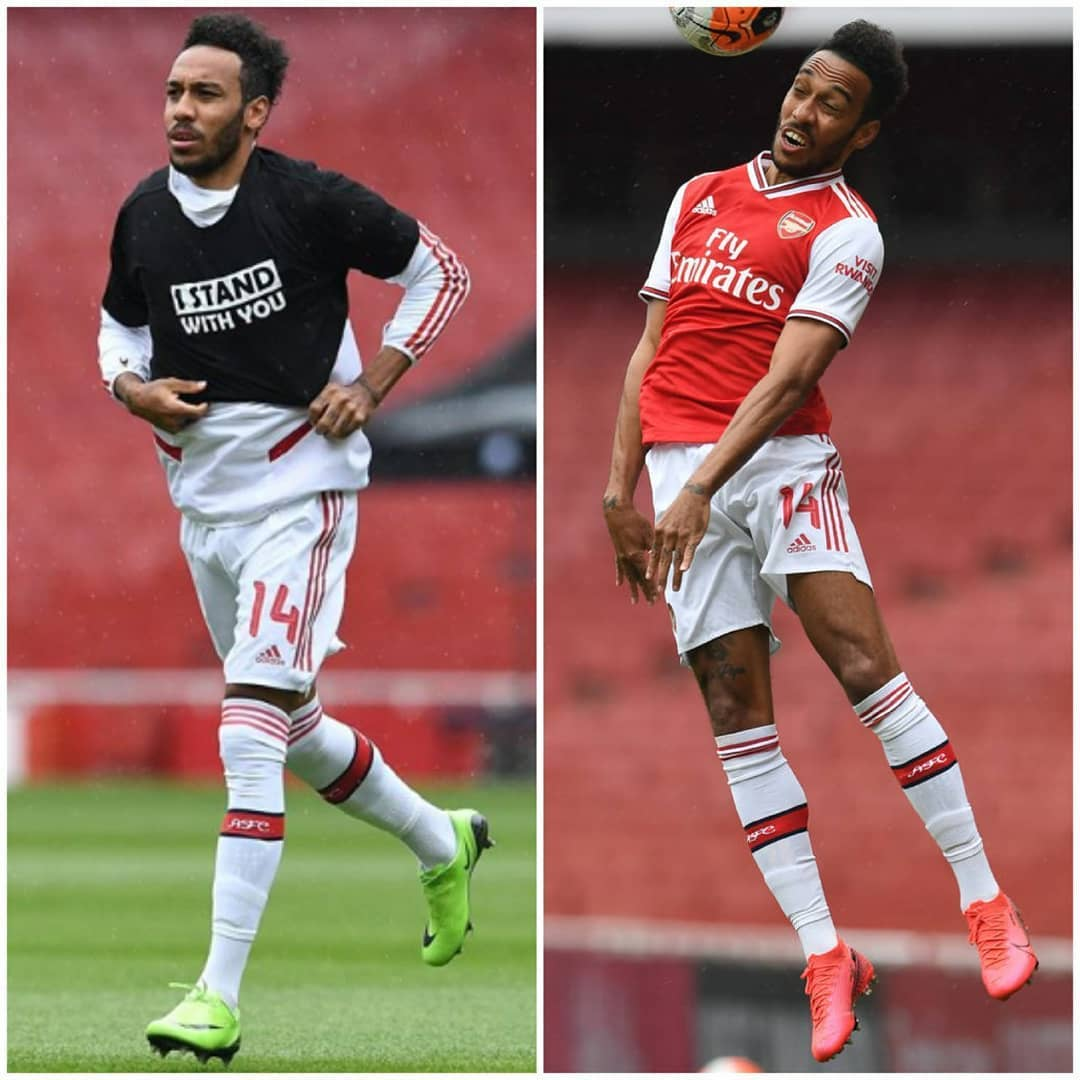football boots: (419, 808, 494, 968), (803, 943, 877, 1063), (967, 893, 1040, 999), (145, 997, 248, 1067)
